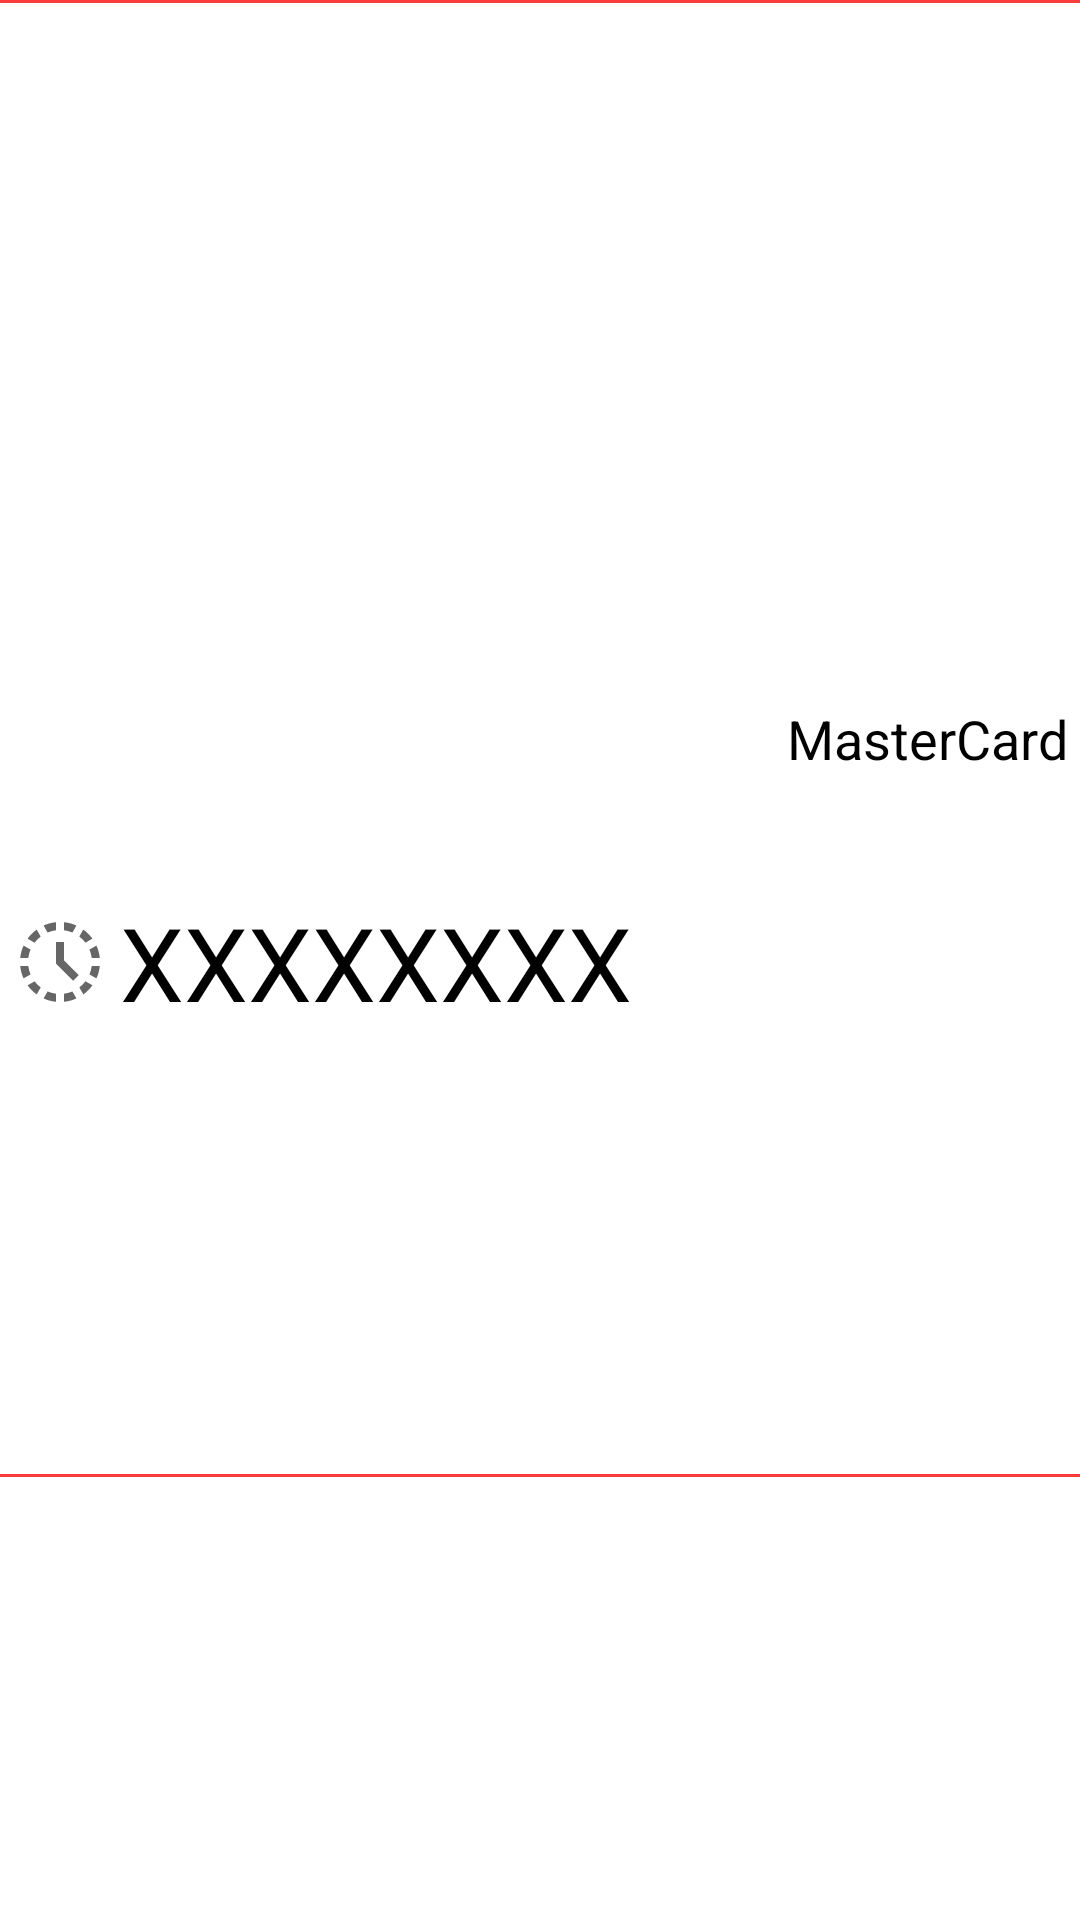

Icon bounding boxes for this 1080w x 1920h phone screenshot, format (x1, y1, x2, y2):
history toggle off: (20, 922, 100, 1002)
